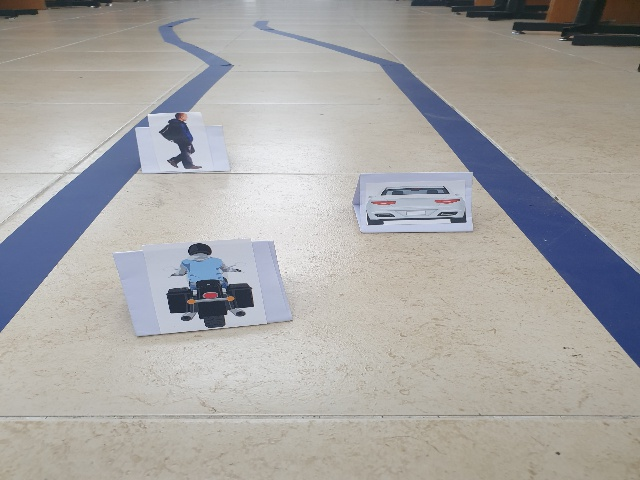Car: (365, 186, 468, 229)
Motorcycle: (166, 245, 255, 330)
Person: (153, 112, 203, 171)
